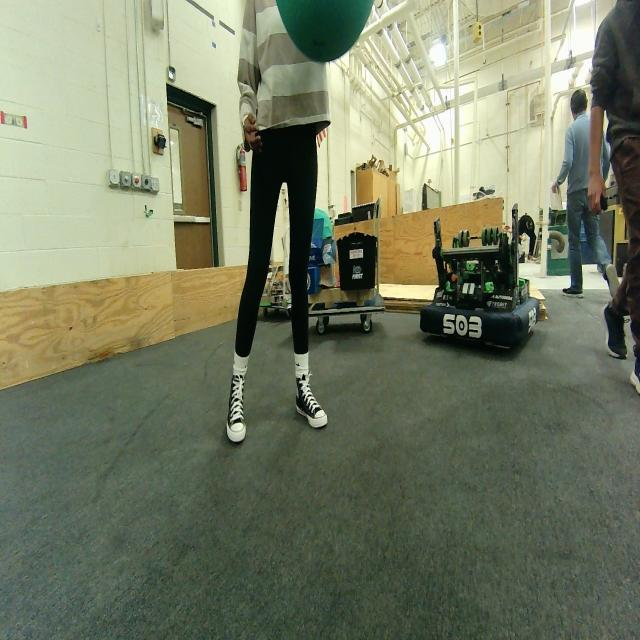algae: (276, 0, 374, 62)
